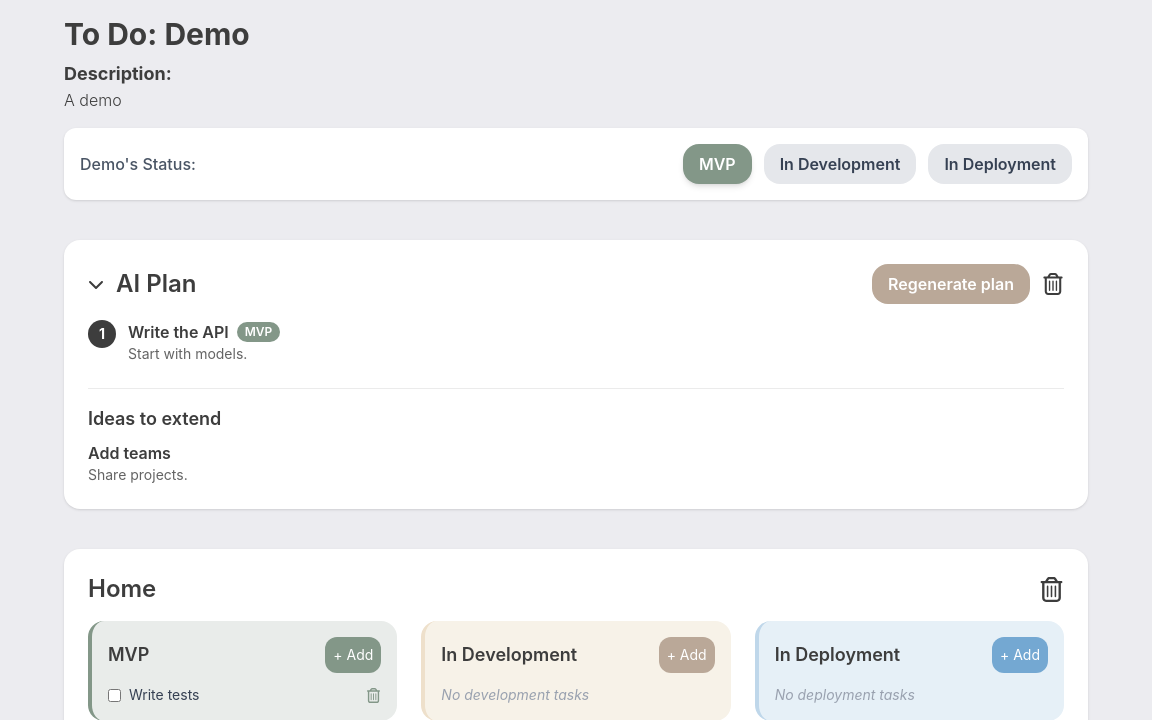
Scenario: ProjectDetail › AI plan › generating while collapsed expands the card
Expected: the text "Write the API" is shown, 128,320 -> 229,344
Click the button with aria-label "Collapse AI plan" at (142, 284), box 88,268 -> 196,300
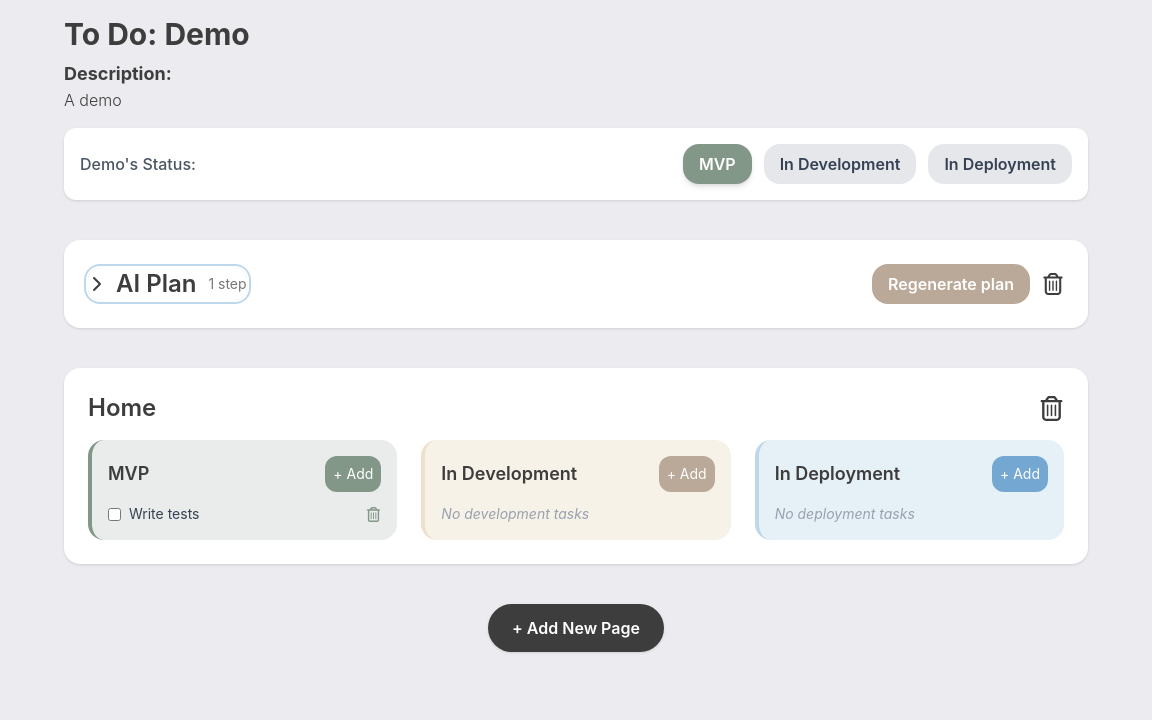
Click the button "Regenerate plan" at (951, 284), box 872,264 -> 1030,304
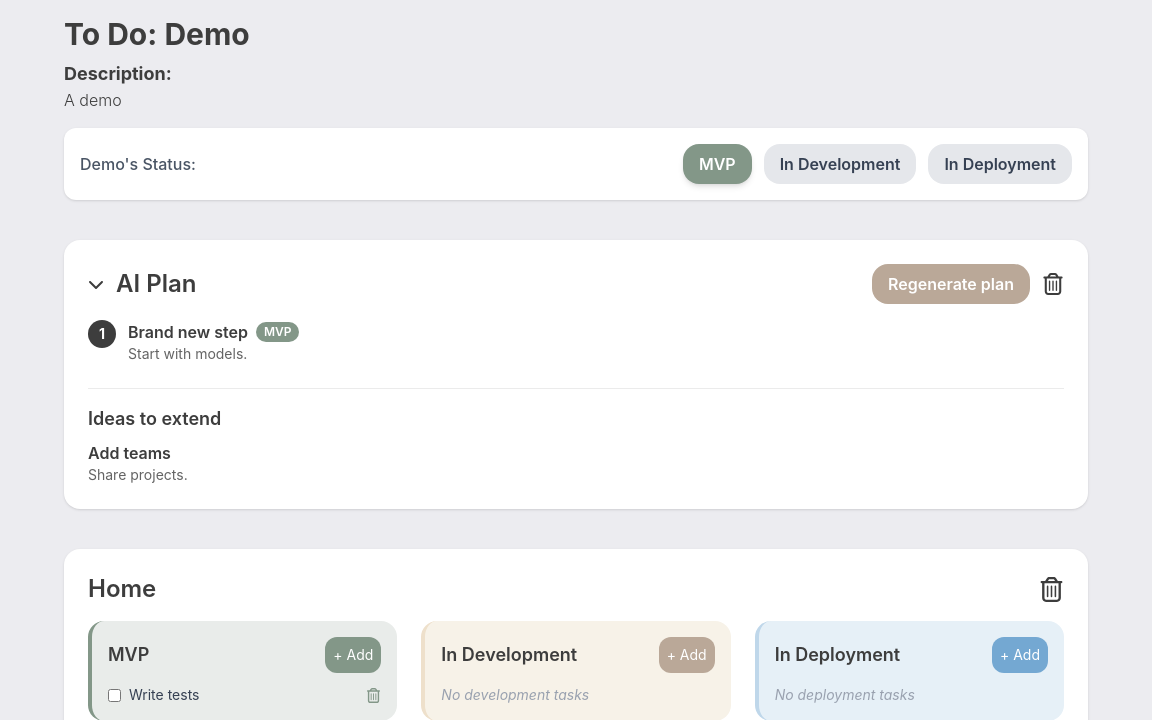
Result: the text "Brand new step" is shown at 128,320 -> 248,344
